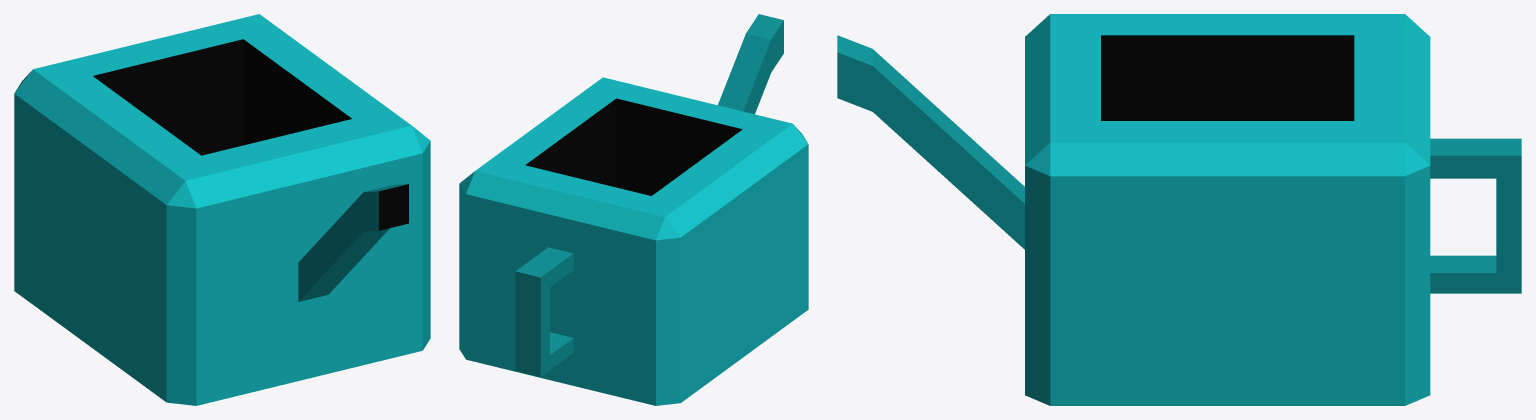
The model's file is Teapot.gltf.
3 views of the same model, side by side, from view 1: azimuth 30°, elevation 25°; view 2: azimuth 150°, elevation 25°; view 3: azimuth 270°, elevation 25° (orthographic). The views are drawn at different scales.
Visible parts, largest first — view 1: cuboid (×2); view 2: cuboid (×3); view 3: cuboid (×3).
Part boxes in pixels (x1=…): cuboid (×2): x1=14, y1=14, x2=430, y2=405; cuboid (×3): x1=459, y1=14, x2=808, y2=405; cuboid (×3): x1=837, y1=14, x2=1521, y2=405.
Size of the model in its own units: 0.4375 by 0.3938 by 0.8437.
1 material, 1 textured.
